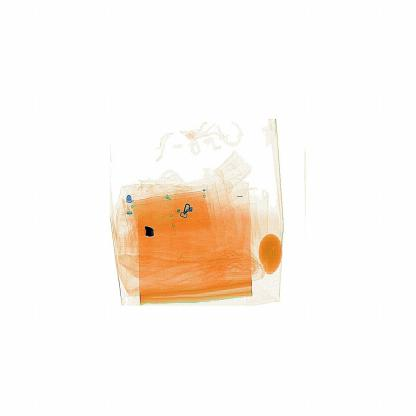wrench: (135, 212, 158, 247)
